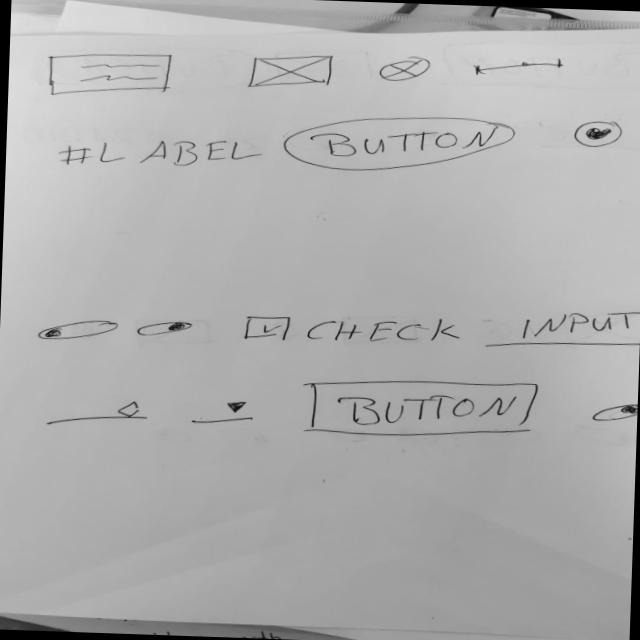button: (305, 374, 545, 443), (281, 110, 519, 179)
checkbox: (240, 310, 467, 350)
icon-button: (572, 118, 625, 152)
image: (242, 51, 340, 95), (376, 54, 435, 86)
input: (482, 304, 640, 354)
label: (57, 133, 267, 176)
number-input: (45, 396, 151, 433)
select: (186, 399, 258, 429)
slider: (469, 54, 568, 82)
textarea: (40, 49, 179, 102)
toggle: (36, 317, 122, 345), (135, 318, 197, 340), (586, 401, 639, 426)
